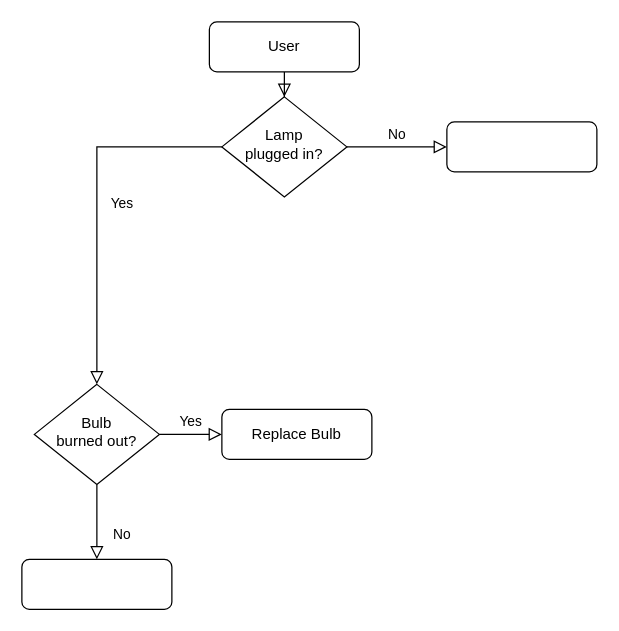
Image size: 619x631. Some labels were removed from this diagram. Here are the shapes that lost their labels. From the top down, the centre of each, then its label:
At (521,146): "Plug in lamp".
At (96,583): "Repair Lamp".
